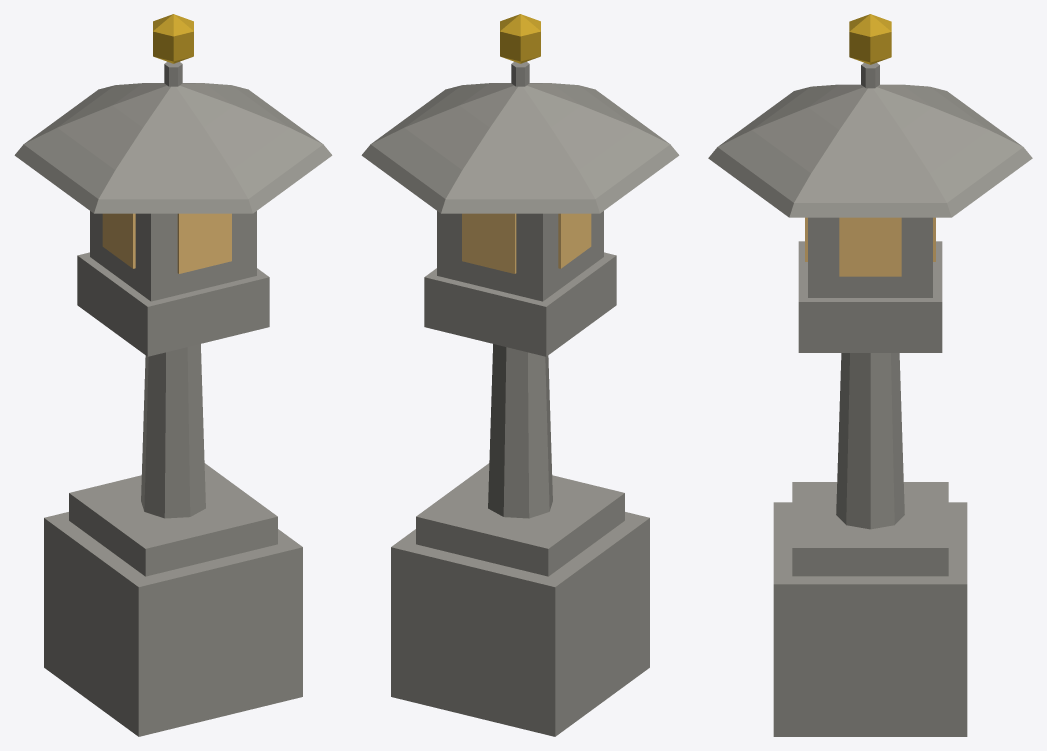
Rendered from toro.glb.
The picture shows the model from 3 angles, left to right: view 1: azimuth 30°, elevation 25°; view 2: azimuth 150°, elevation 25°; view 3: azimuth 270°, elevation 25°; orthographic projection. The views are drawn at different scales.
Visible parts, largest first — view 1: toro; view 2: toro; view 3: toro.
Boxes of the visible parts, x1,y1,x2,y2 form: toro: [14, 14, 332, 736]; toro: [361, 14, 679, 736]; toro: [708, 14, 1032, 736].
Bounding box in the file's own units: 0.9007 × 2.41 × 1.04.
